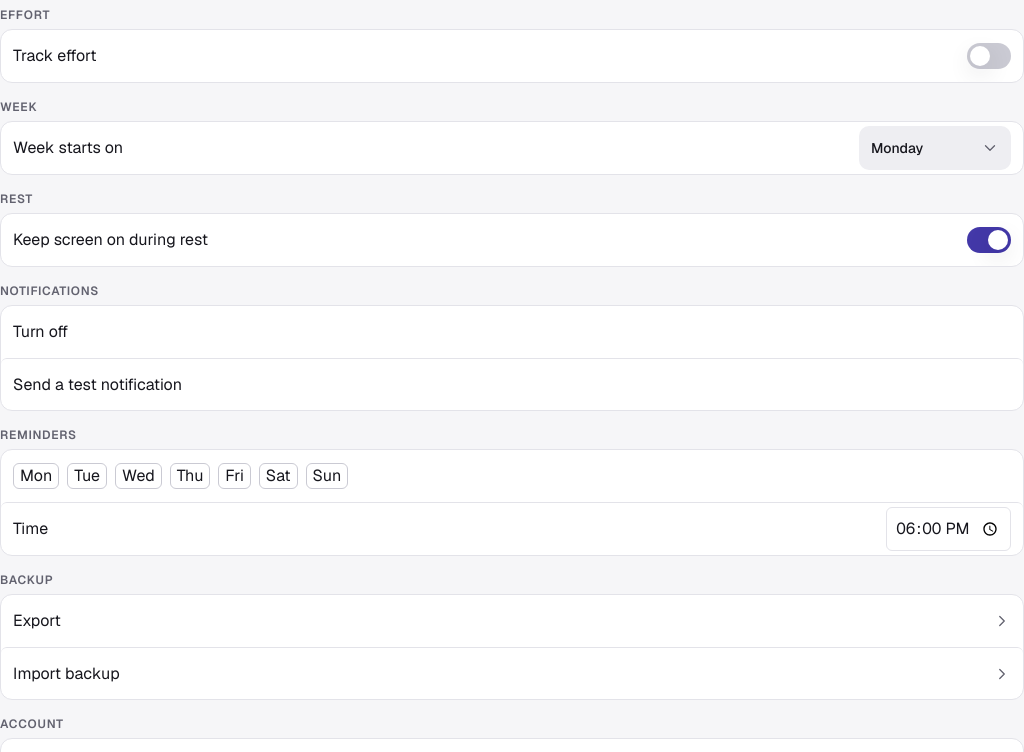
it: E25-T1 O5 a failing push service reads Failed with its status and reason
(page scrolled)
Click the button "Send a test notification": [97, 384] box [1,358,1023,410]
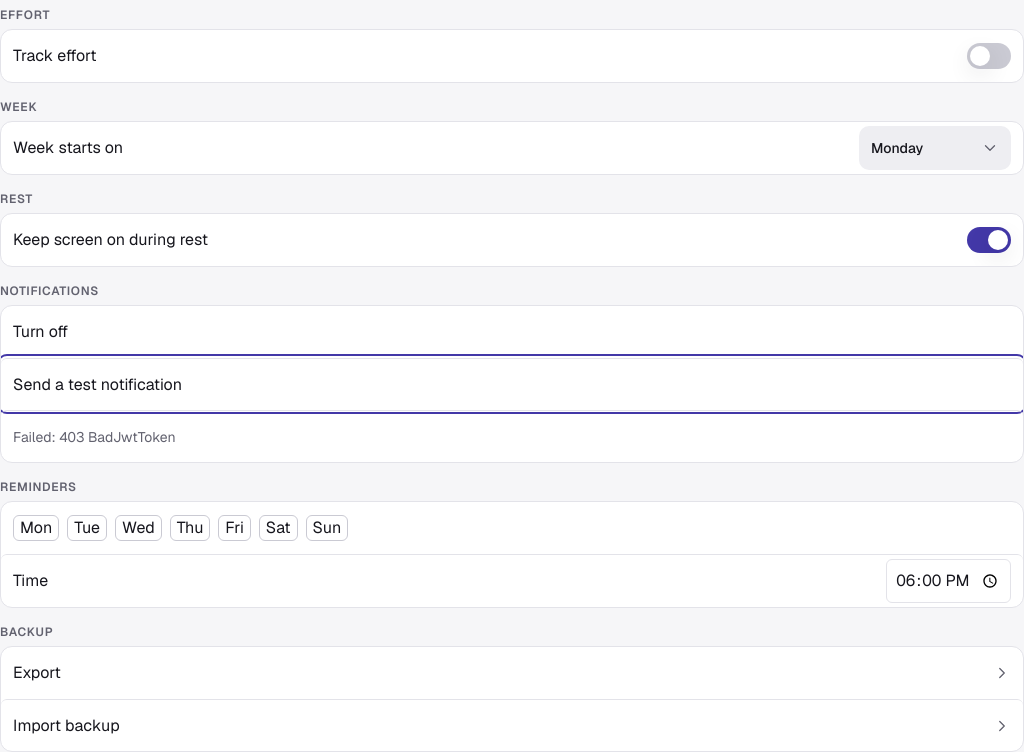
Check: the text "Failed: 403 BadJwtToken" is shown, box [1,410,1023,462]
